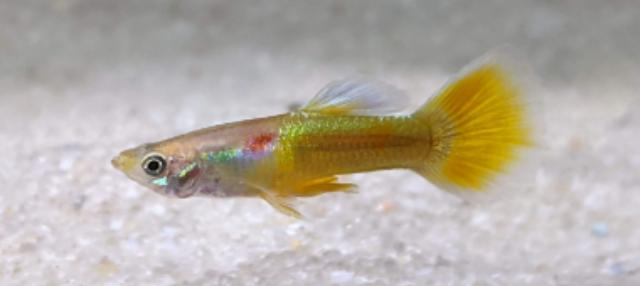Mulut: (96, 139, 142, 181)
Sirip Anal: (292, 161, 378, 203)
Sirip Ekor: (400, 36, 568, 242)
Sirip Perut: (240, 175, 312, 228)
Sirip Punggung: (278, 66, 426, 130)
